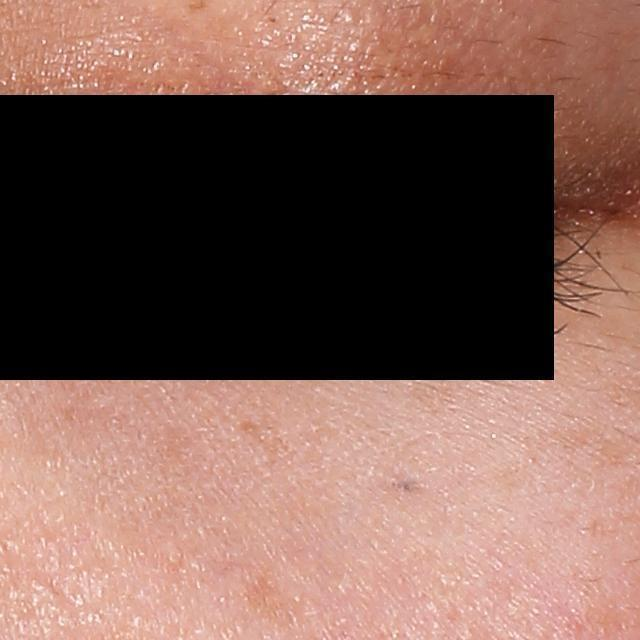melasma: (228, 569, 310, 632)
